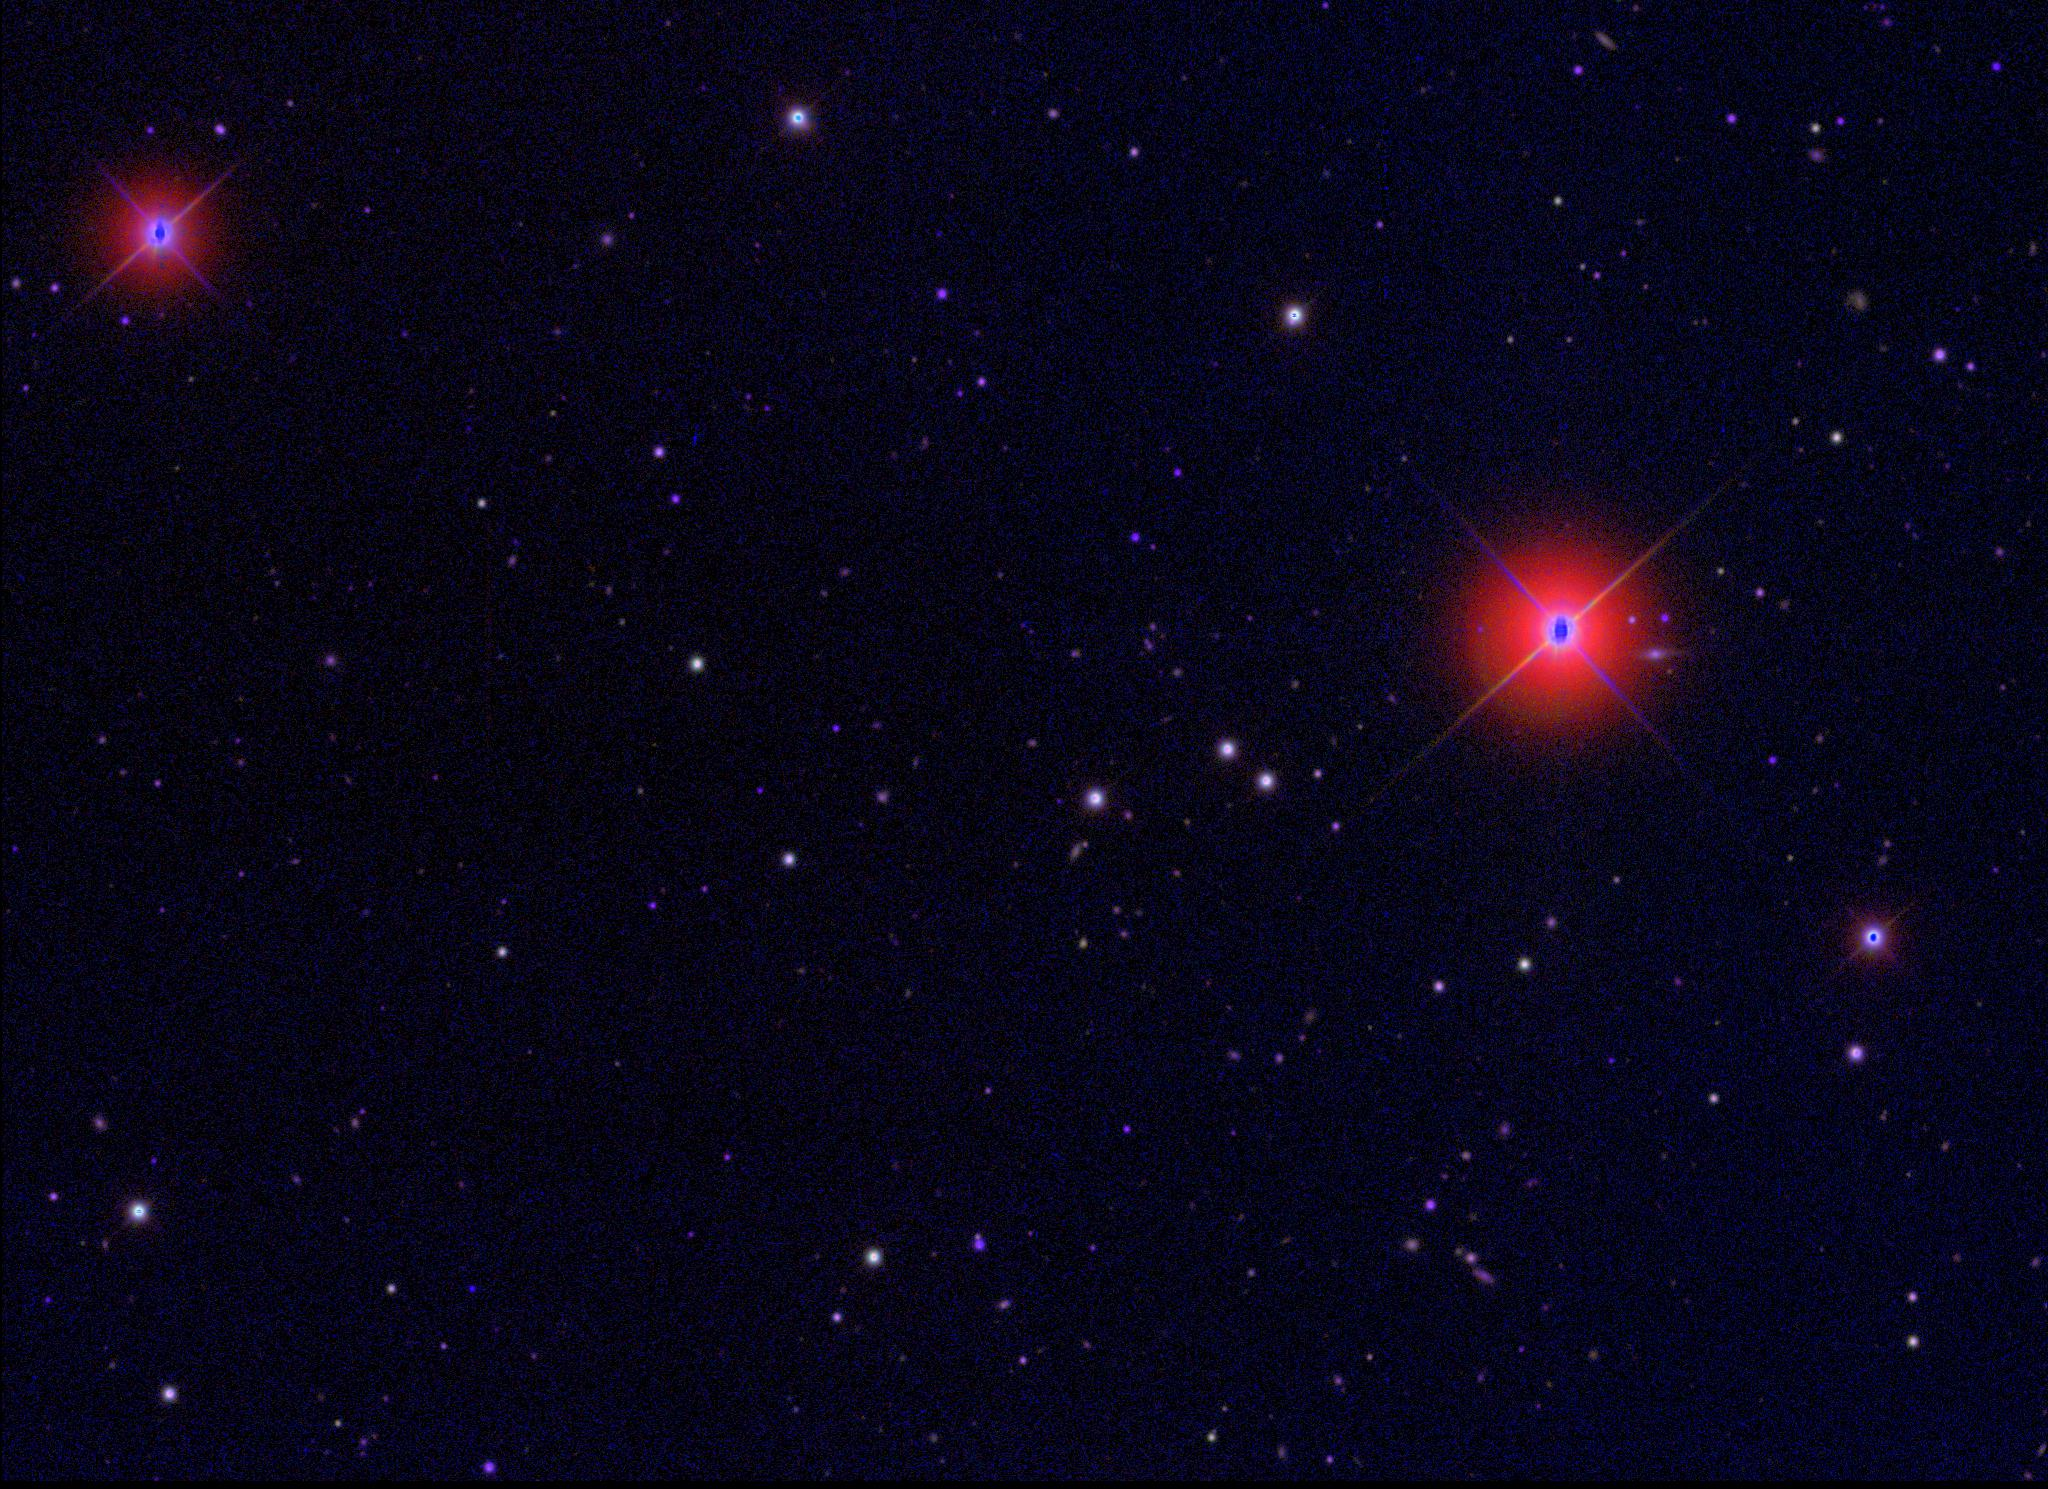L: (466, 1277, 480, 1292)
